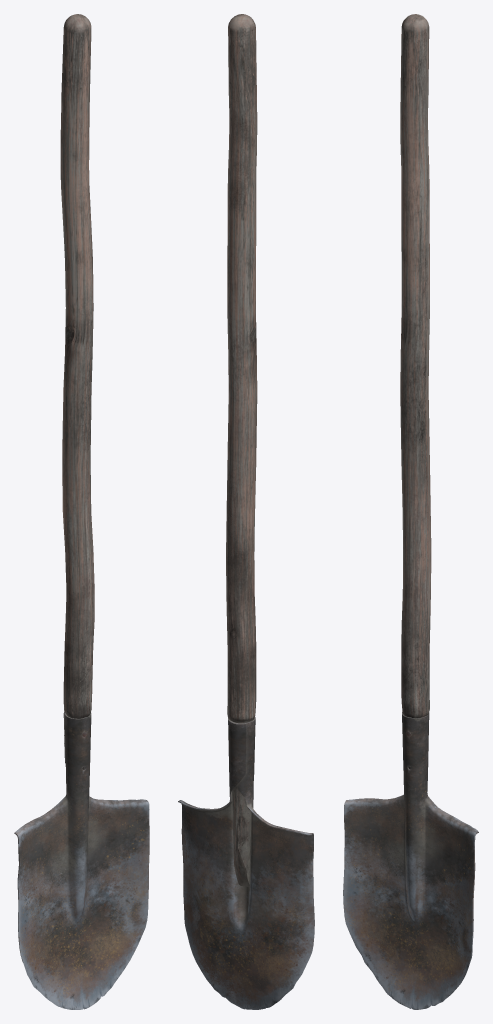
File: spade.glb
3 renders of one model, left to right at view 1: azimuth 30°, elevation 25°; view 2: azimuth 150°, elevation 25°; view 3: azimuth 330°, elevation 25°, orthographic.
Parts seen in each view (by area): view 1: Shovel_low, Handle_low; view 2: Shovel_low, Handle_low; view 3: Shovel_low, Handle_low.
Boxes of the visible parts, x1,y1,x2,y2 form: Shovel_low: (14, 712, 149, 1009); Handle_low: (60, 14, 94, 769); Shovel_low: (178, 717, 314, 1009); Handle_low: (226, 14, 257, 887); Shovel_low: (343, 712, 478, 1009); Handle_low: (400, 14, 431, 769).
Size of the model in its own units: 0.2026 by 1.45 by 0.0435.
1 material, 1 textured.
